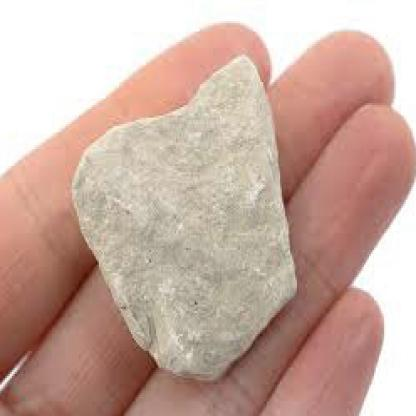Sedimentary_Chalk: (72, 48, 299, 376)
